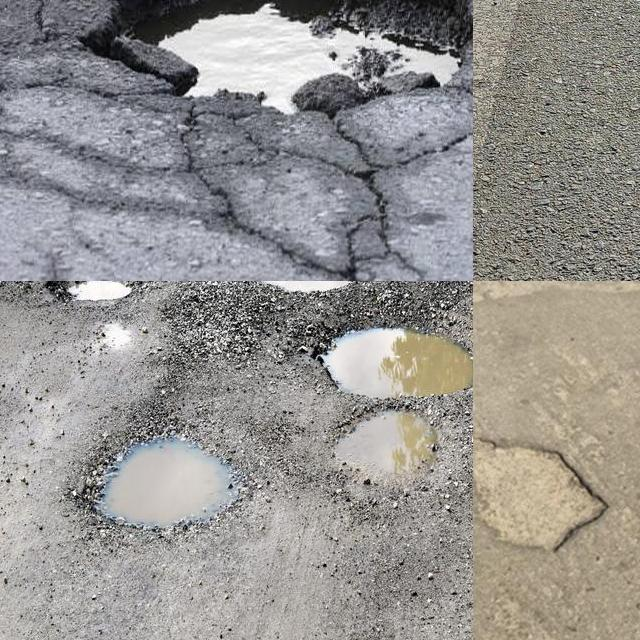Lubang: (79, 0, 473, 120), (79, 420, 246, 528), (473, 435, 611, 547), (315, 310, 473, 405), (333, 411, 446, 486), (248, 281, 362, 304), (59, 281, 144, 306)
